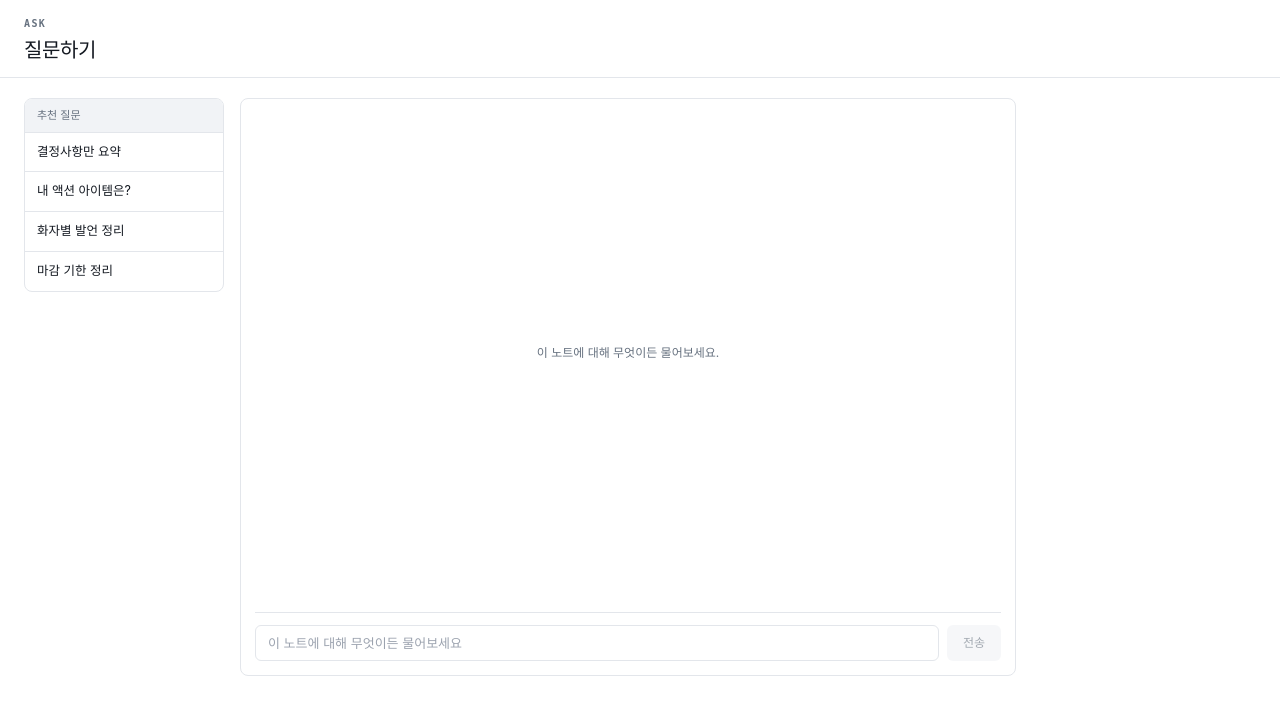
Test: AskScreen › renders the answer with a source chip
In the field with placeholder "이 노트에 대해 무엇이든 물어보세요": (597, 643) [255, 625, 939, 661], type "결정사항은?"
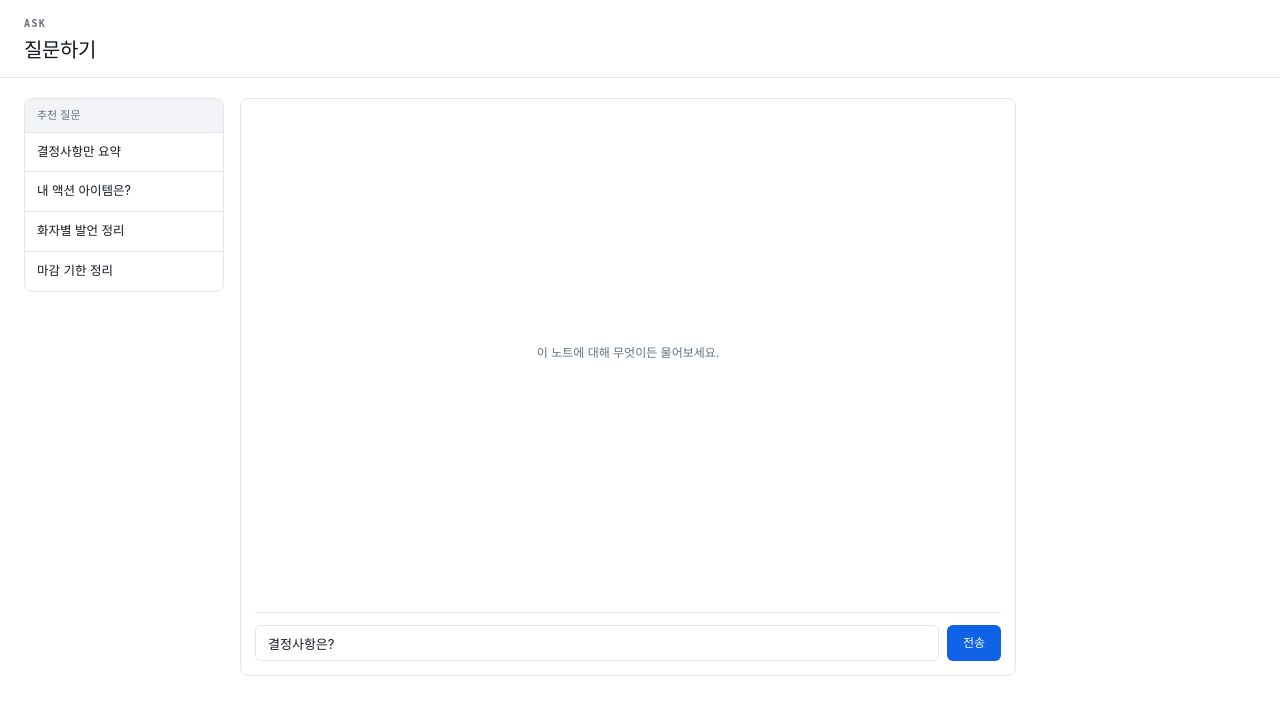
Click the button "전송": (974, 643) [947, 625, 1001, 661]
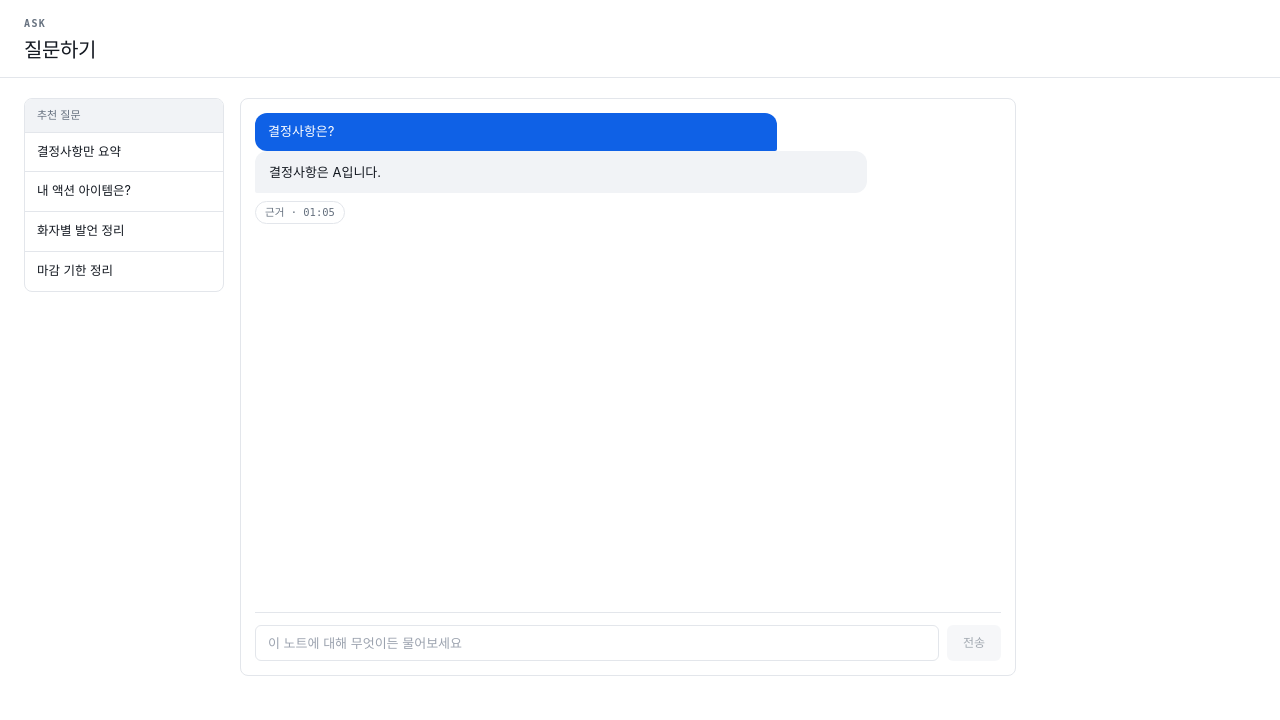
Result: the text "결정사항은 A입니다." is shown at [255, 150, 867, 193]
Result: the text "근거 · 01:05" is shown at [255, 201, 345, 224]
